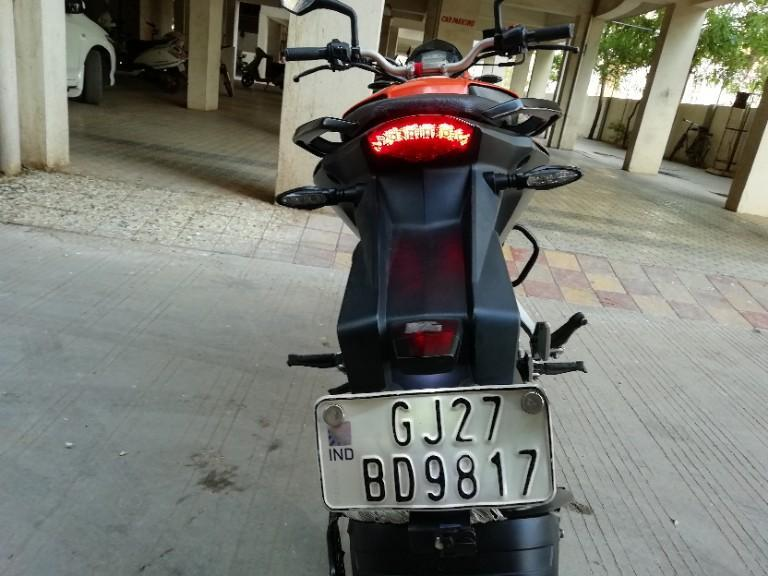doublelinenumberplate: (318, 384, 555, 513)
